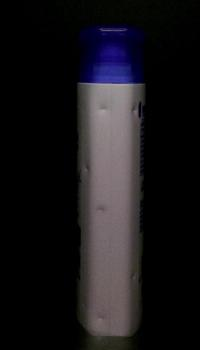dent_marginal: (93, 96, 114, 124), (83, 150, 97, 182), (122, 263, 140, 287), (95, 193, 114, 215), (125, 94, 139, 123)
